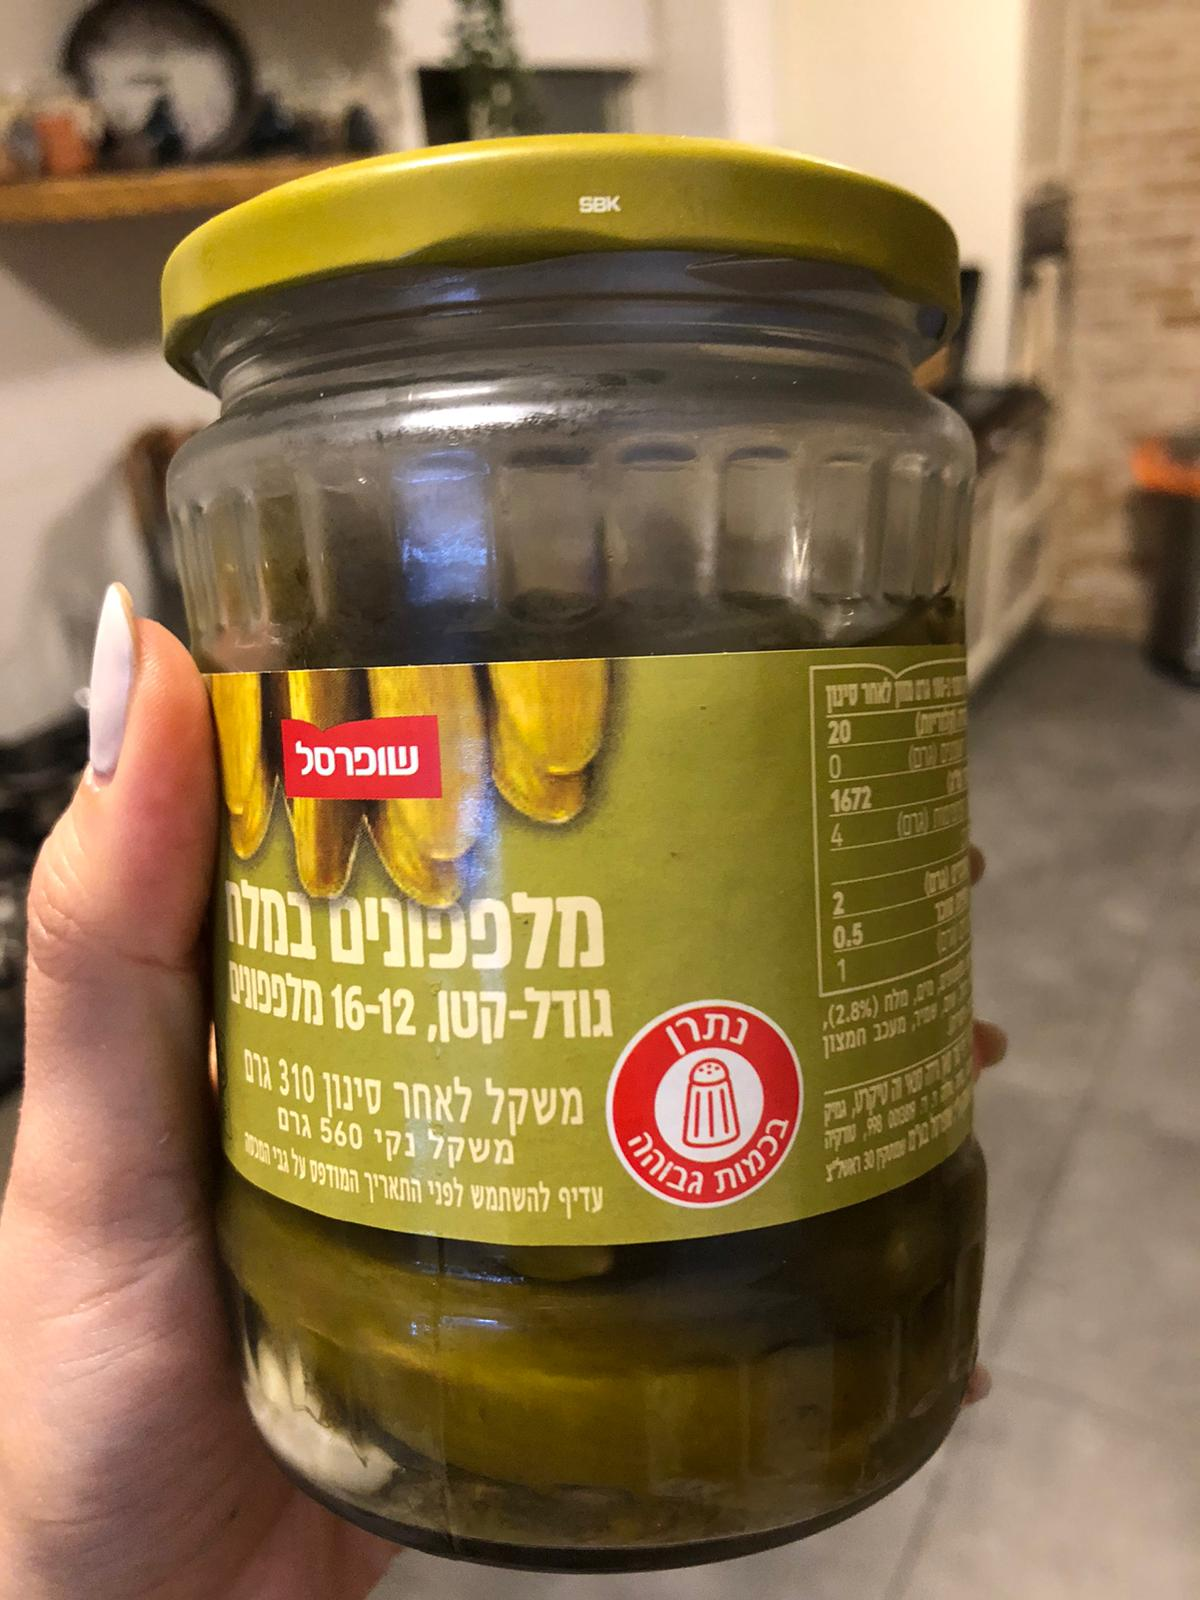salt: (601, 1000, 807, 1209)
